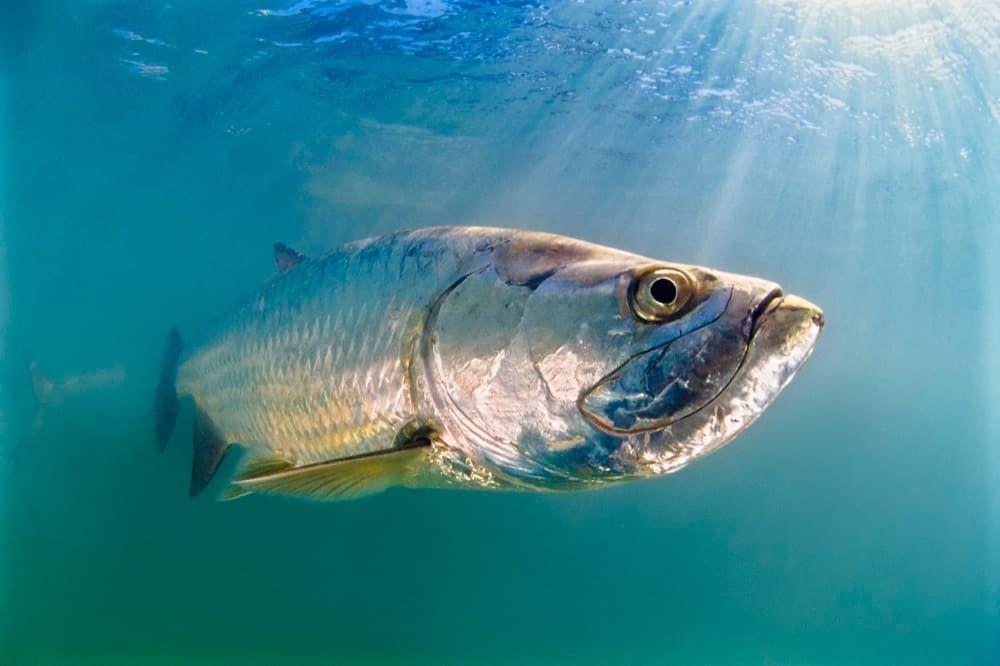Indo-Pacific Tarpon: (152, 222, 822, 500)
